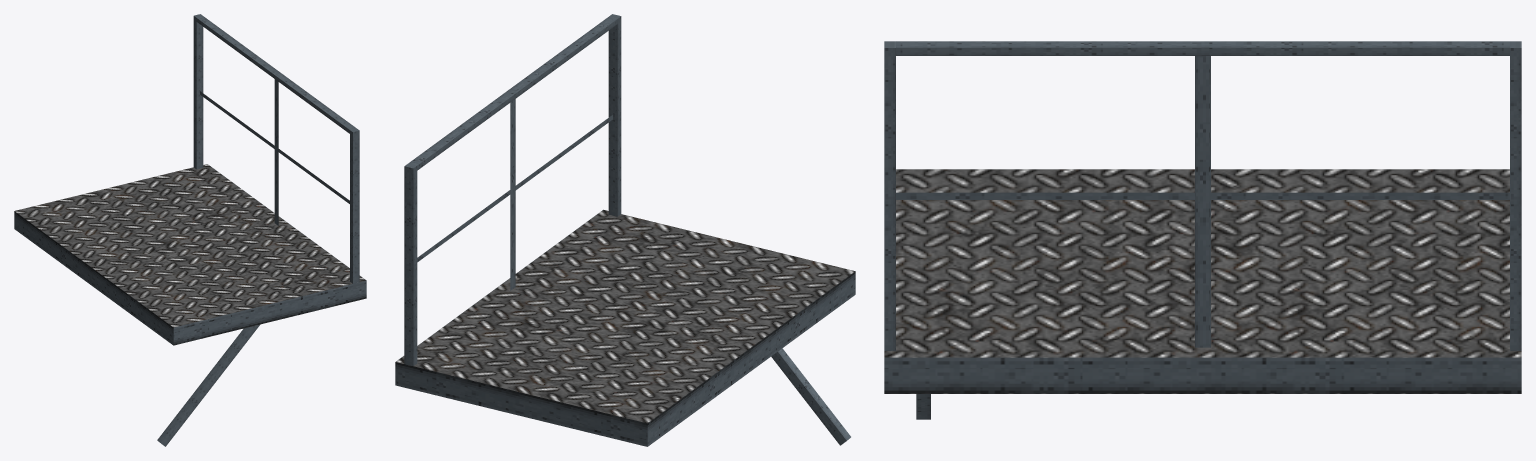
File: mMetalCatwalkOneSS01.obj
3 renders of one model, left to right at view 1: azimuth 30°, elevation 25°; view 2: azimuth 150°, elevation 25°; view 3: azimuth 270°, elevation 25°, orthographic. The views are drawn at different scales.
Visible parts, largest first — view 1: MetalCatwalkOneSS01; view 2: MetalCatwalkOneSS01; view 3: MetalCatwalkOneSS01.
Boxes of the visible parts, <box> form: MetalCatwalkOneSS01: <box>14,14,366,446</box>; MetalCatwalkOneSS01: <box>395,14,855,446</box>; MetalCatwalkOneSS01: <box>884,41,1521,419</box>.
Bounding box in the file's own units: 2.87 × 3.83 × 4.
